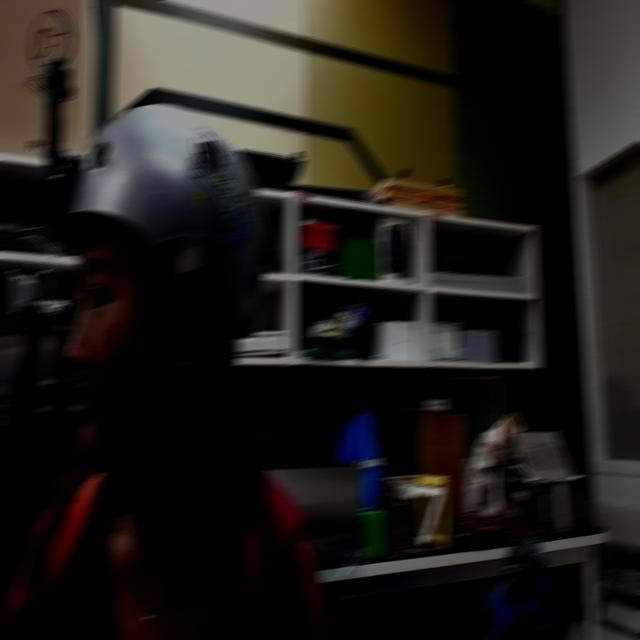With Helmet: (20, 44, 308, 514)
